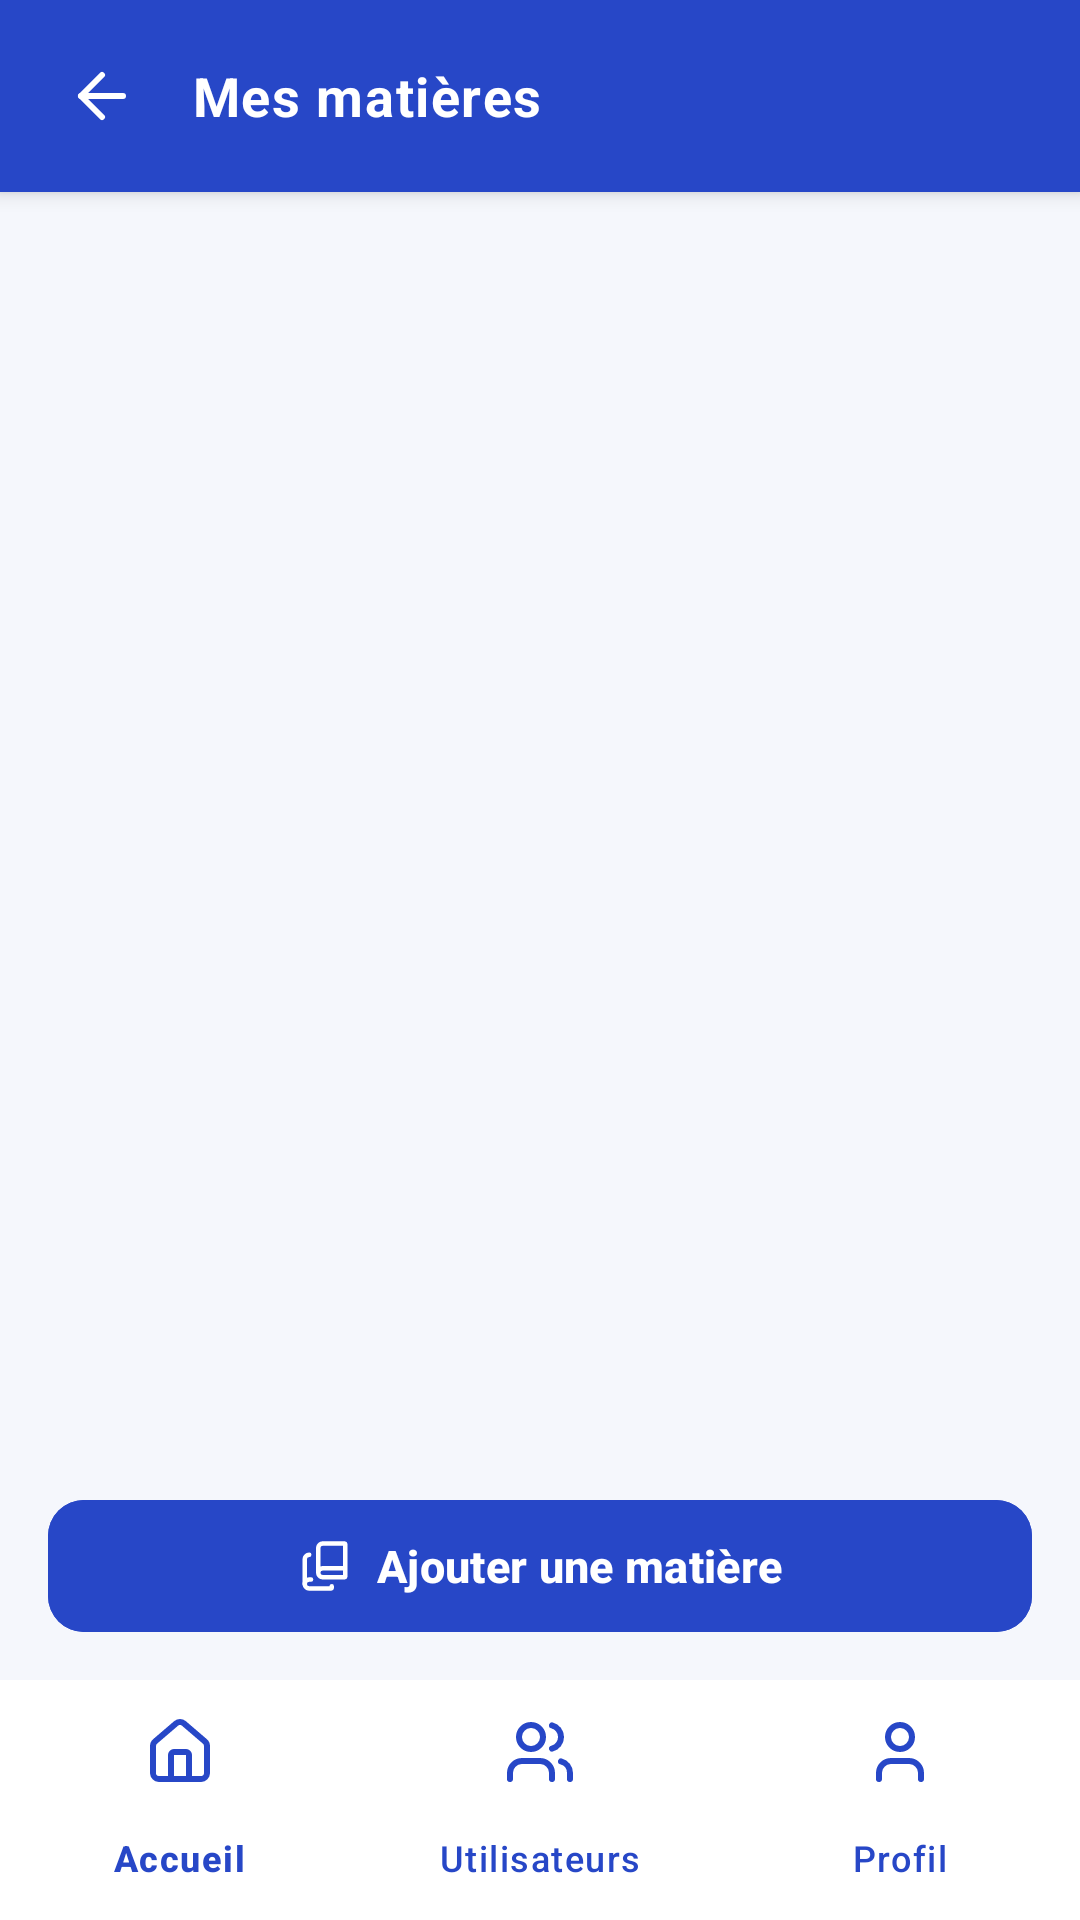

Screen size 1080×1920. Icon name, then its center in pixels as (x,y):
Bouton retour: (102,96)
